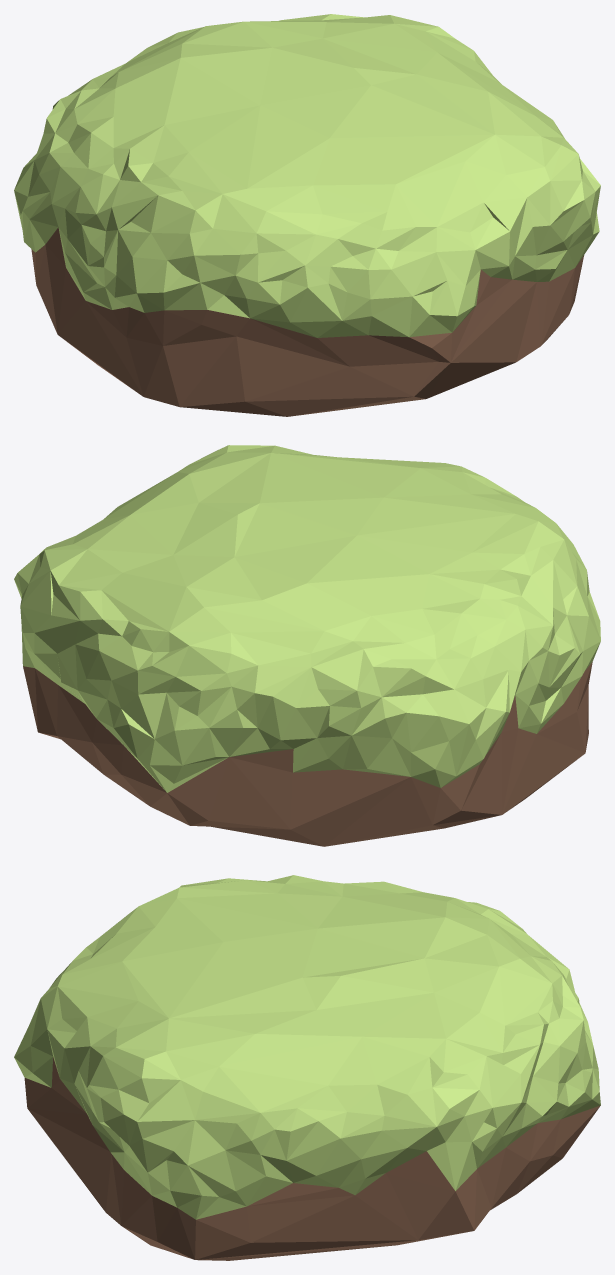
The model's file is lowPolyTiles_grassland02.fbx.
The picture shows the model from 3 angles, top to bottom: view 1: azimuth 30°, elevation 25°; view 2: azimuth 150°, elevation 25°; view 3: azimuth 270°, elevation 25°; orthographic projection. The views are drawn at different scales.
Visible parts, largest first — view 1: LowPolyTiles_grassland02; view 2: LowPolyTiles_grassland02; view 3: LowPolyTiles_grassland02.
Part boxes in pixels (left/top/right/bottom): LowPolyTiles_grassland02: left=14, top=14, right=600, bottom=416; LowPolyTiles_grassland02: left=14, top=445, right=600, bottom=846; LowPolyTiles_grassland02: left=14, top=875, right=600, bottom=1260.
Size of the model in its own units: 743 by 342 by 817.
